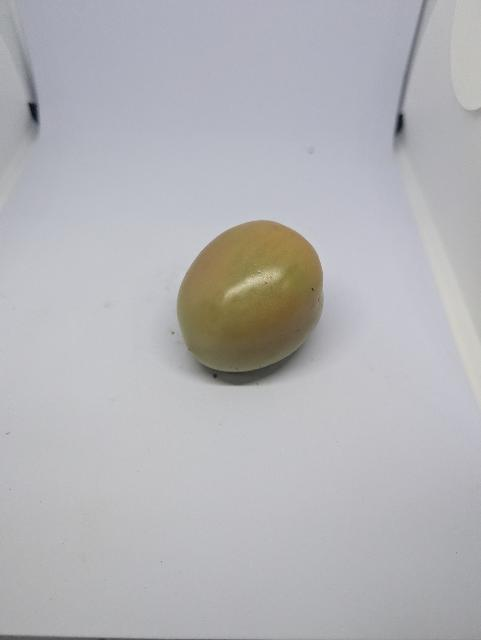breaker: (168, 215, 334, 388)
